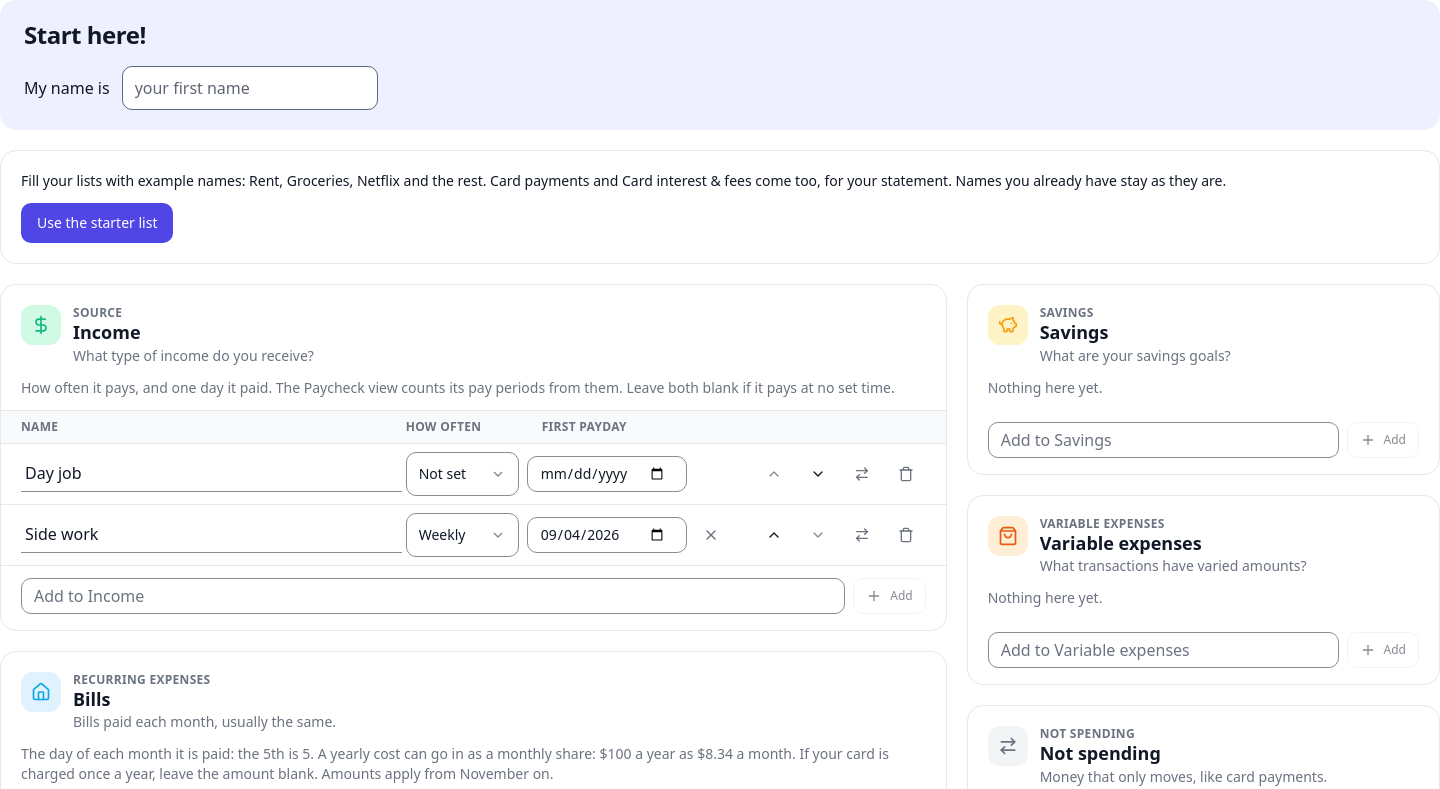
Scenario: Lists, when income is paid › saves once both halves are there, and says what it saved
Select "Bi-weekly" in the dropdown named "How often Day job pays" at (462, 474), box x1=406 y1=452 x2=519 y2=496
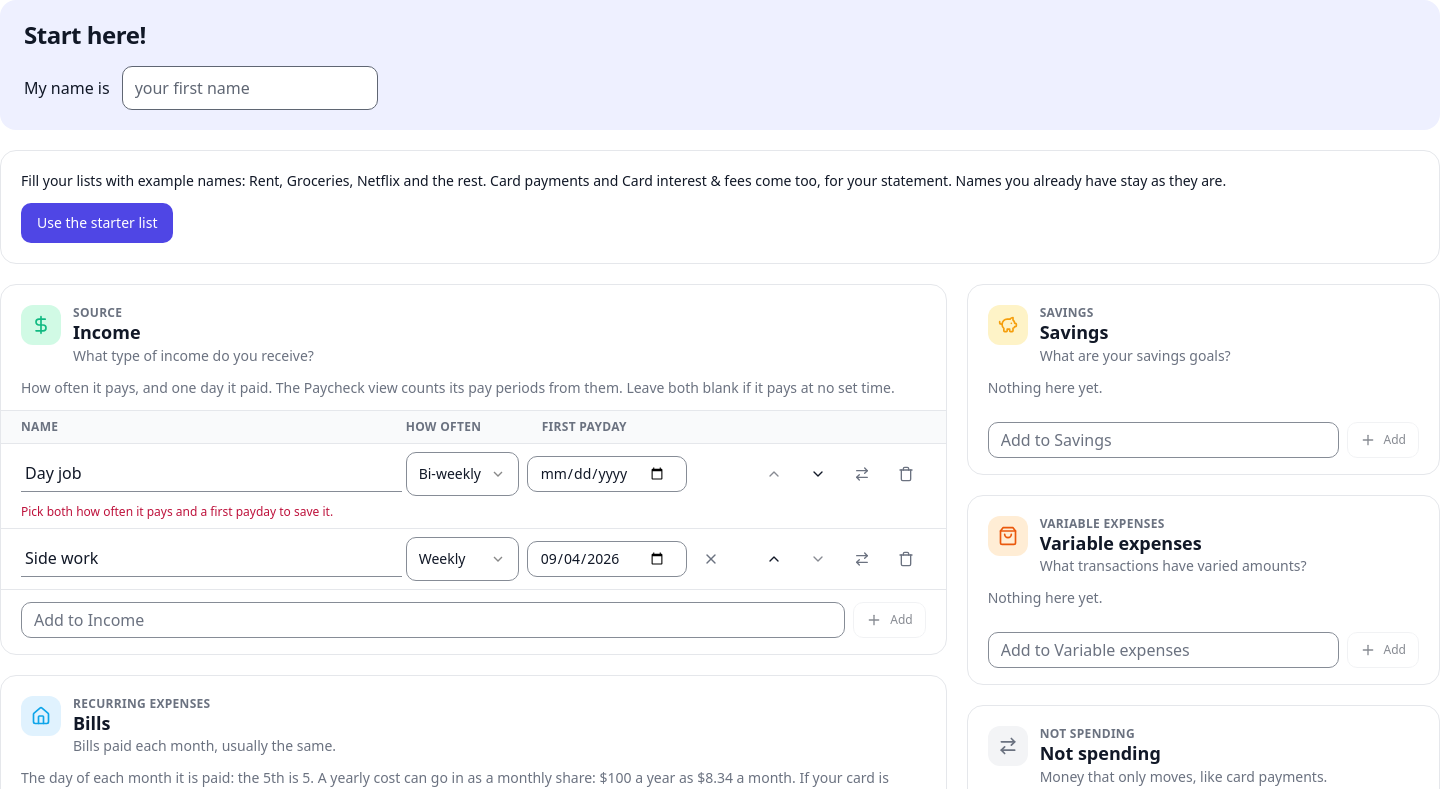
Result: the message reads "Pick both how often it pays and a first payday to save it." at x1=21 y1=502 x2=333 y2=520
Type "2026-09-11" into the date field named "First payday for Day job" at (607, 474), box x1=527 y1=456 x2=687 y2=492
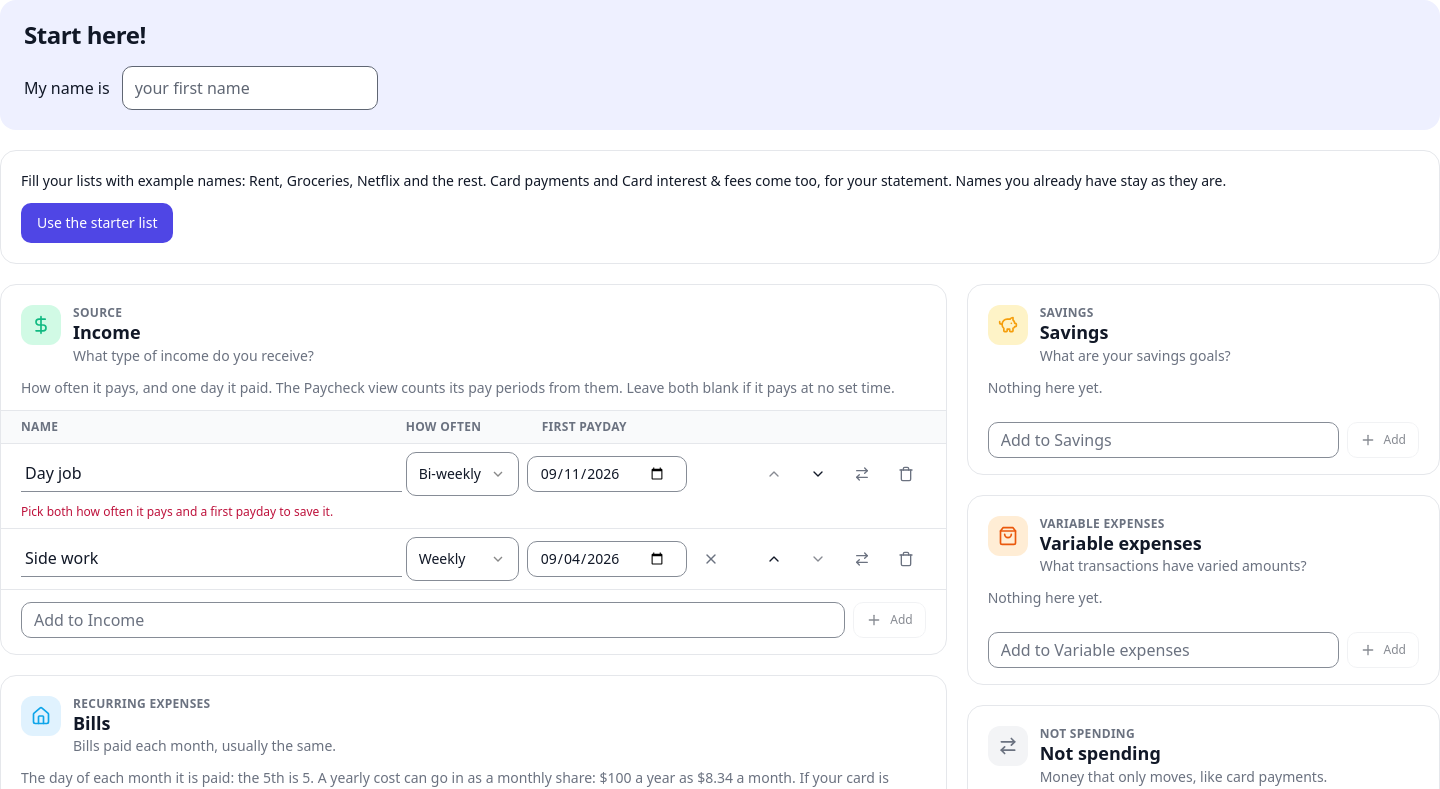
Leave the date field named "First payday for Day job", box x1=527 y1=456 x2=687 y2=492
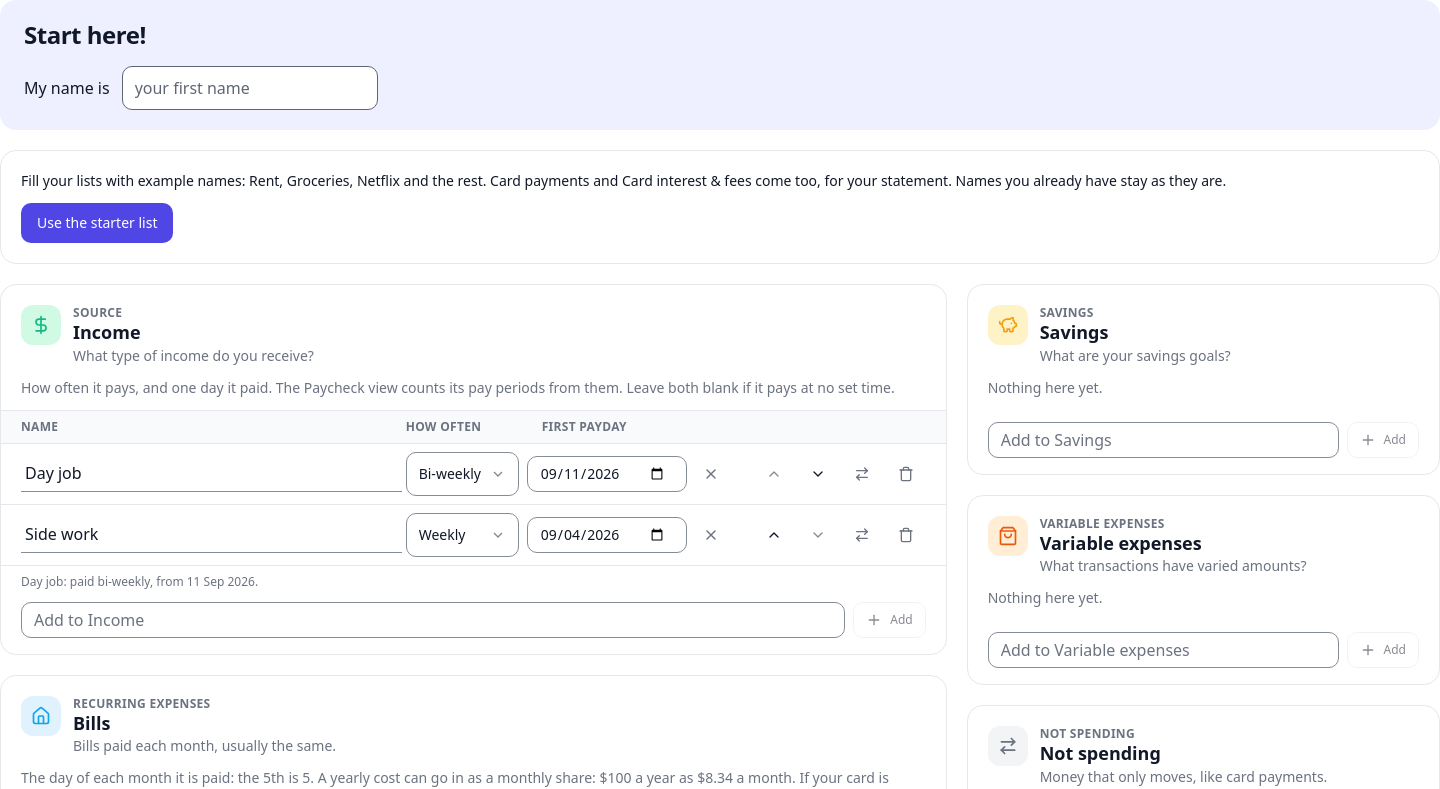
Result: the message reads "Day job: paid bi-weekly, from 11 Sep 2026." at x1=21 y1=572 x2=258 y2=590
